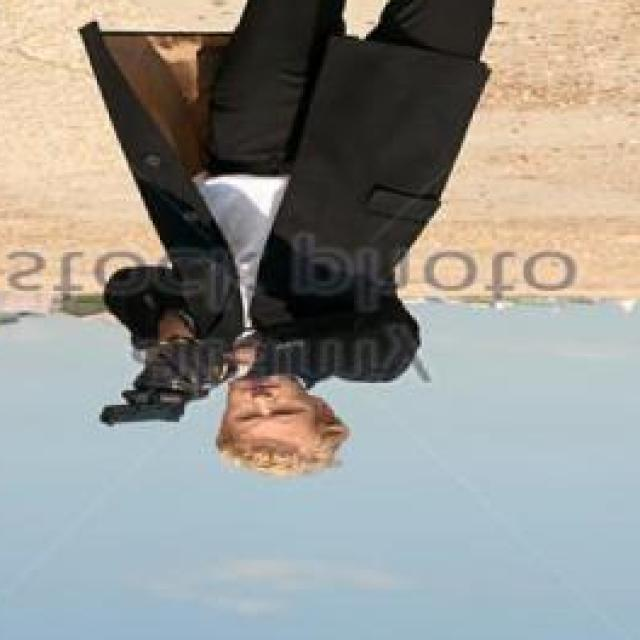pistol: (97, 386, 193, 429)
